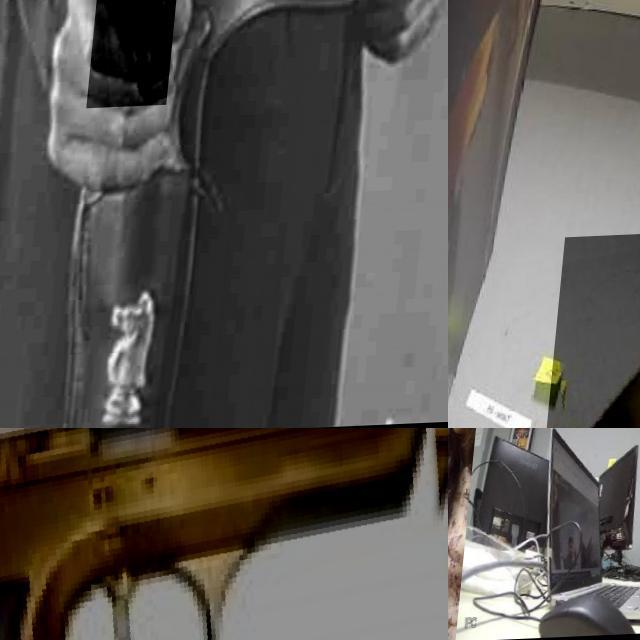-: (551, 230, 640, 428), (448, 428, 469, 535), (448, 428, 468, 452)
gun-knife-thesis - v11 Yolov5 augmented: (0, 428, 448, 640), (92, 0, 188, 110)
